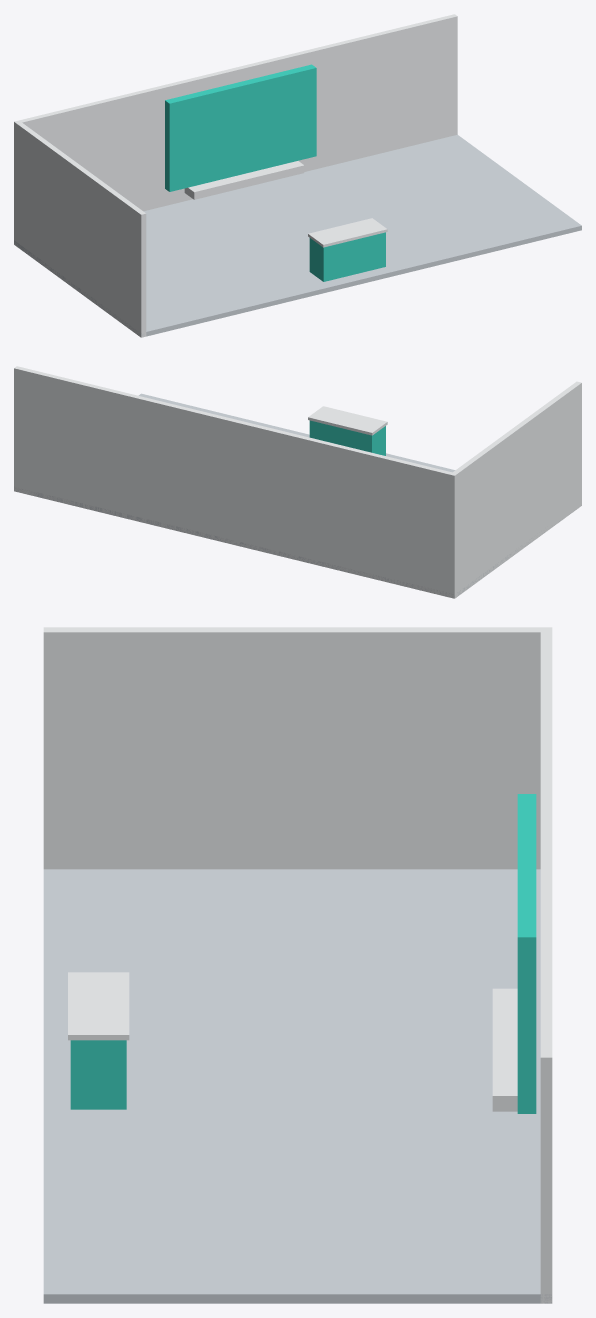
3 renders of one model, top to bottom at view 1: azimuth 30°, elevation 25°; view 2: azimuth 150°, elevation 25°; view 3: azimuth 270°, elevation 25°, orthographic. The views are drawn at different scales.
Visible parts, largest first — view 1: Exhibition Booth Concept; view 2: Exhibition Booth Concept; view 3: Exhibition Booth Concept.
Part boxes in pixels (x1=…): Exhibition Booth Concept: x1=14, y1=14, x2=581, y2=337; Exhibition Booth Concept: x1=14, y1=366, x2=581, y2=598; Exhibition Booth Concept: x1=43, y1=627, x2=552, y2=1303.
Size of the model in its own units: 12 by 3.2 by 6.
